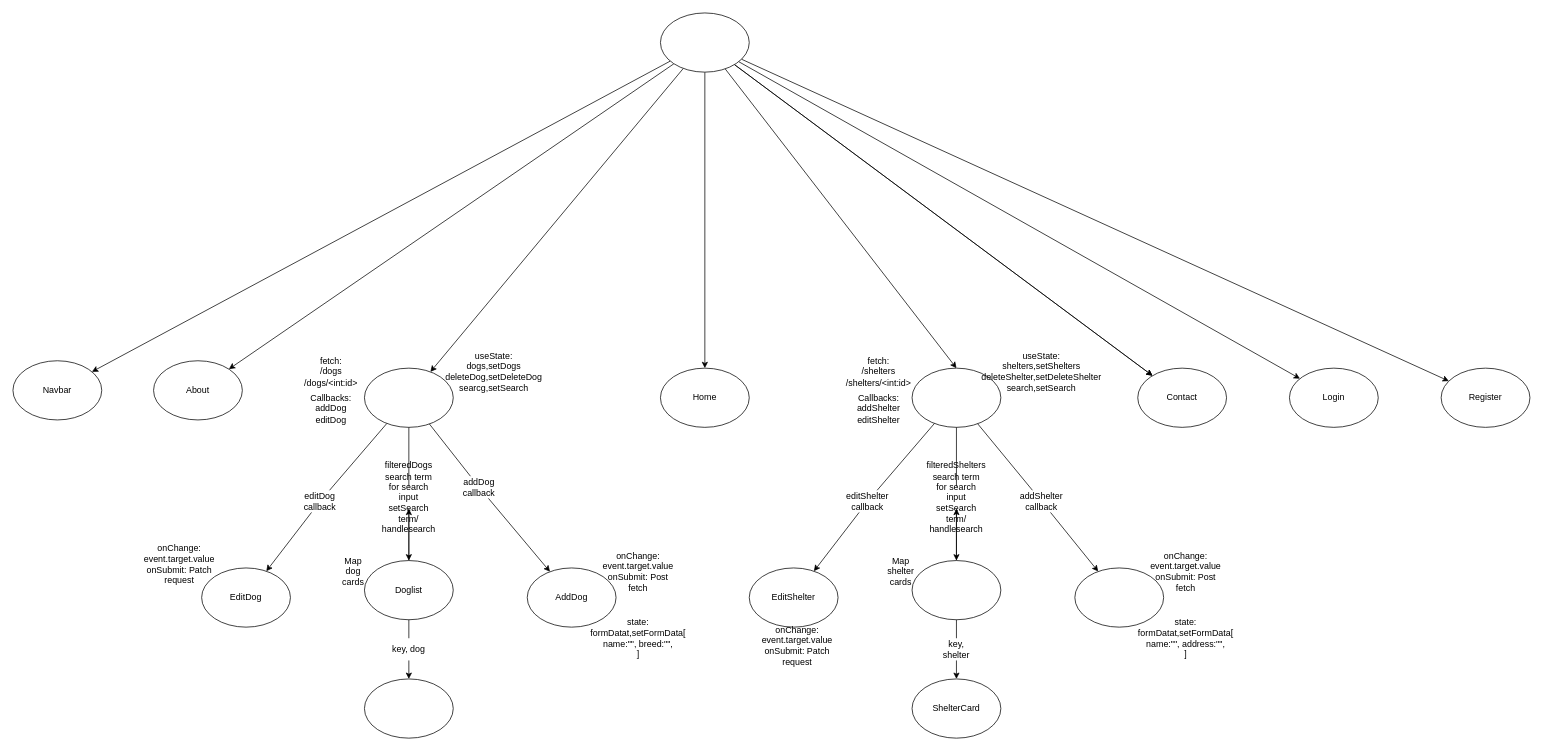
This 1543x751 diagram has some shape labels left out. The box of each missing label's shape, as (x1, y1, x2, y2) in pixels:
AddShelter: (1074, 567, 1164, 627)
App.js: (660, 12, 749, 72)
DogCard: (364, 678, 453, 738)
DogPage: (364, 367, 453, 427)
Shelterlist: (911, 560, 1001, 620)
ShelterPage: (911, 367, 1001, 427)
